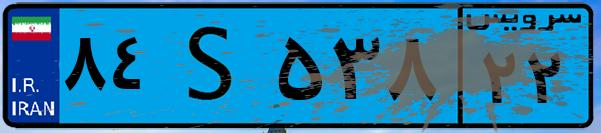2: (475, 38, 525, 113), (525, 38, 570, 115)
3: (330, 28, 385, 110)
4: (110, 28, 158, 98)
5: (270, 28, 330, 110)
8: (385, 28, 445, 110), (57, 26, 110, 100)
S: (158, 12, 270, 120)
